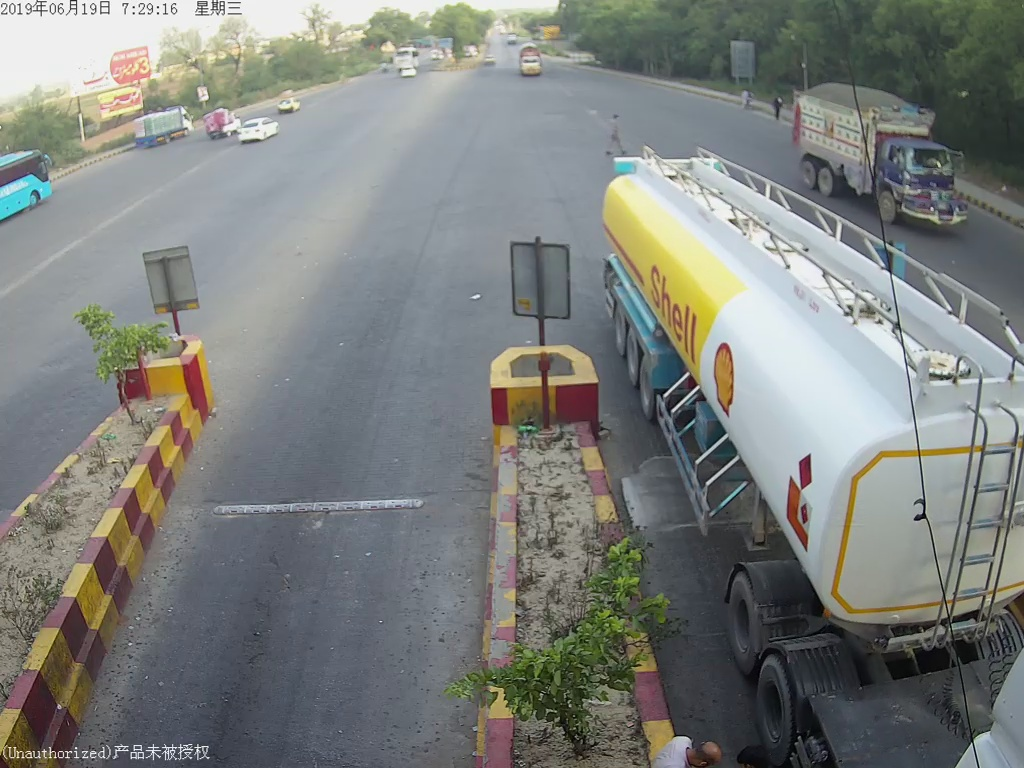Cat-4: (514, 47, 548, 83)
